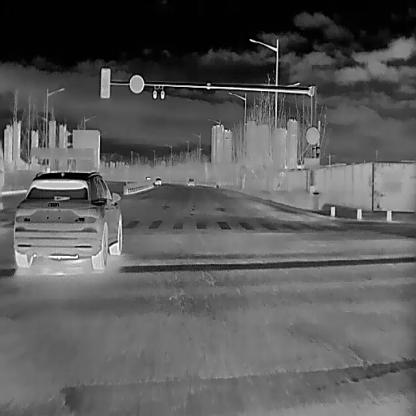car: (13, 170, 122, 269), (186, 176, 194, 186), (154, 176, 160, 184)
